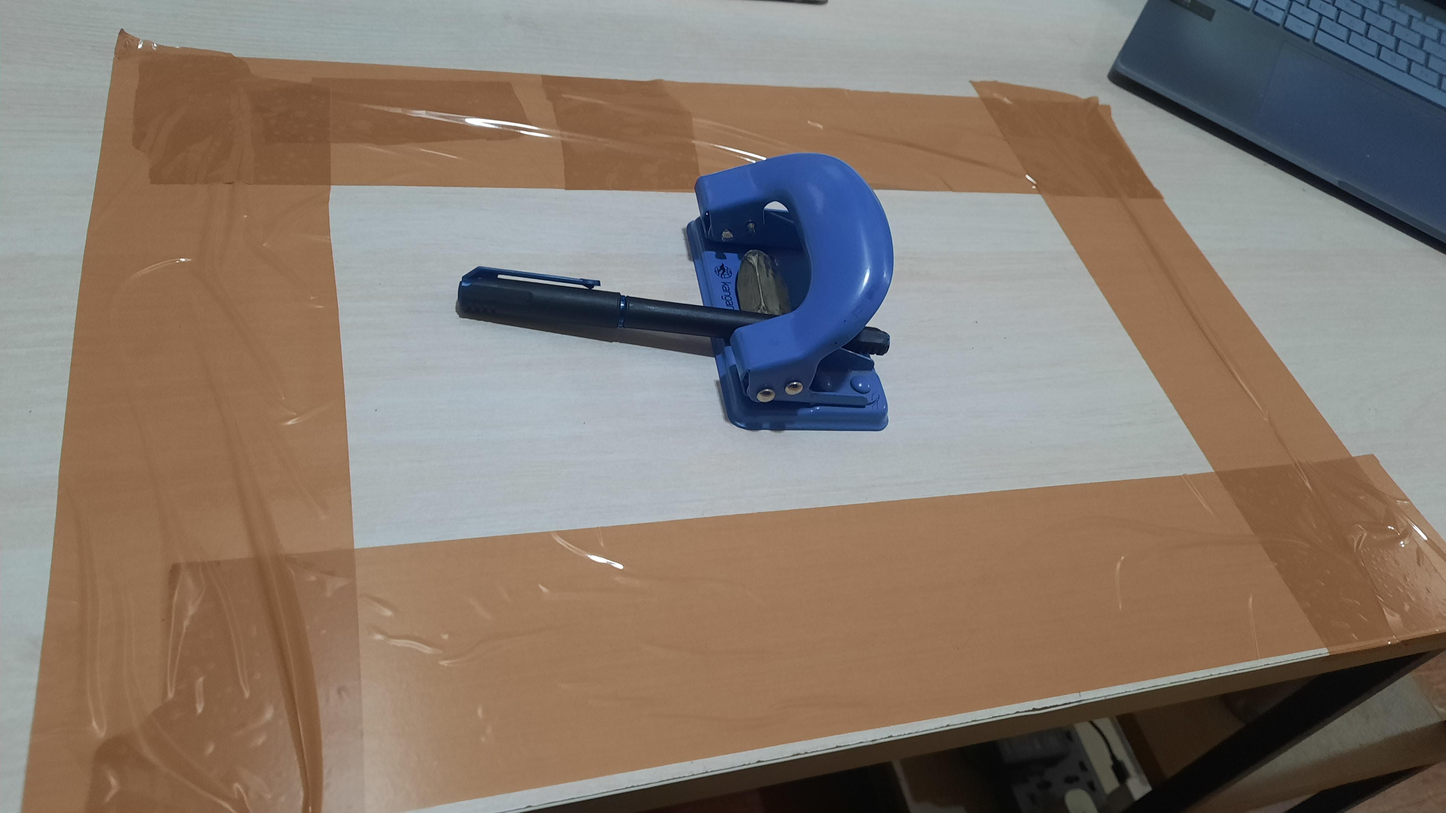Eraser: (734, 249, 791, 317)
Pen: (456, 266, 891, 356)
Punch: (686, 152, 895, 433)
